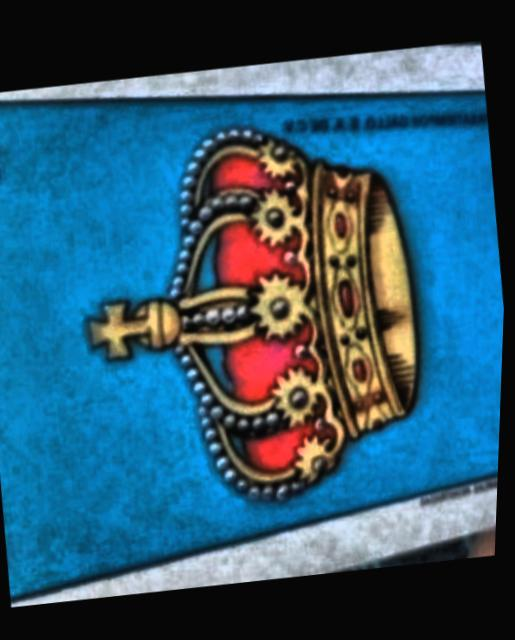La Corona: (0, 88, 506, 594)
